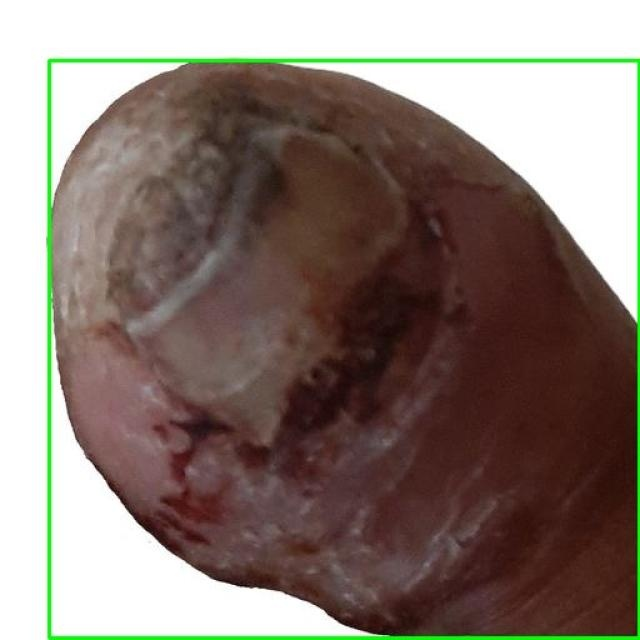Contact Dermatitis: (49, 60, 639, 639)
